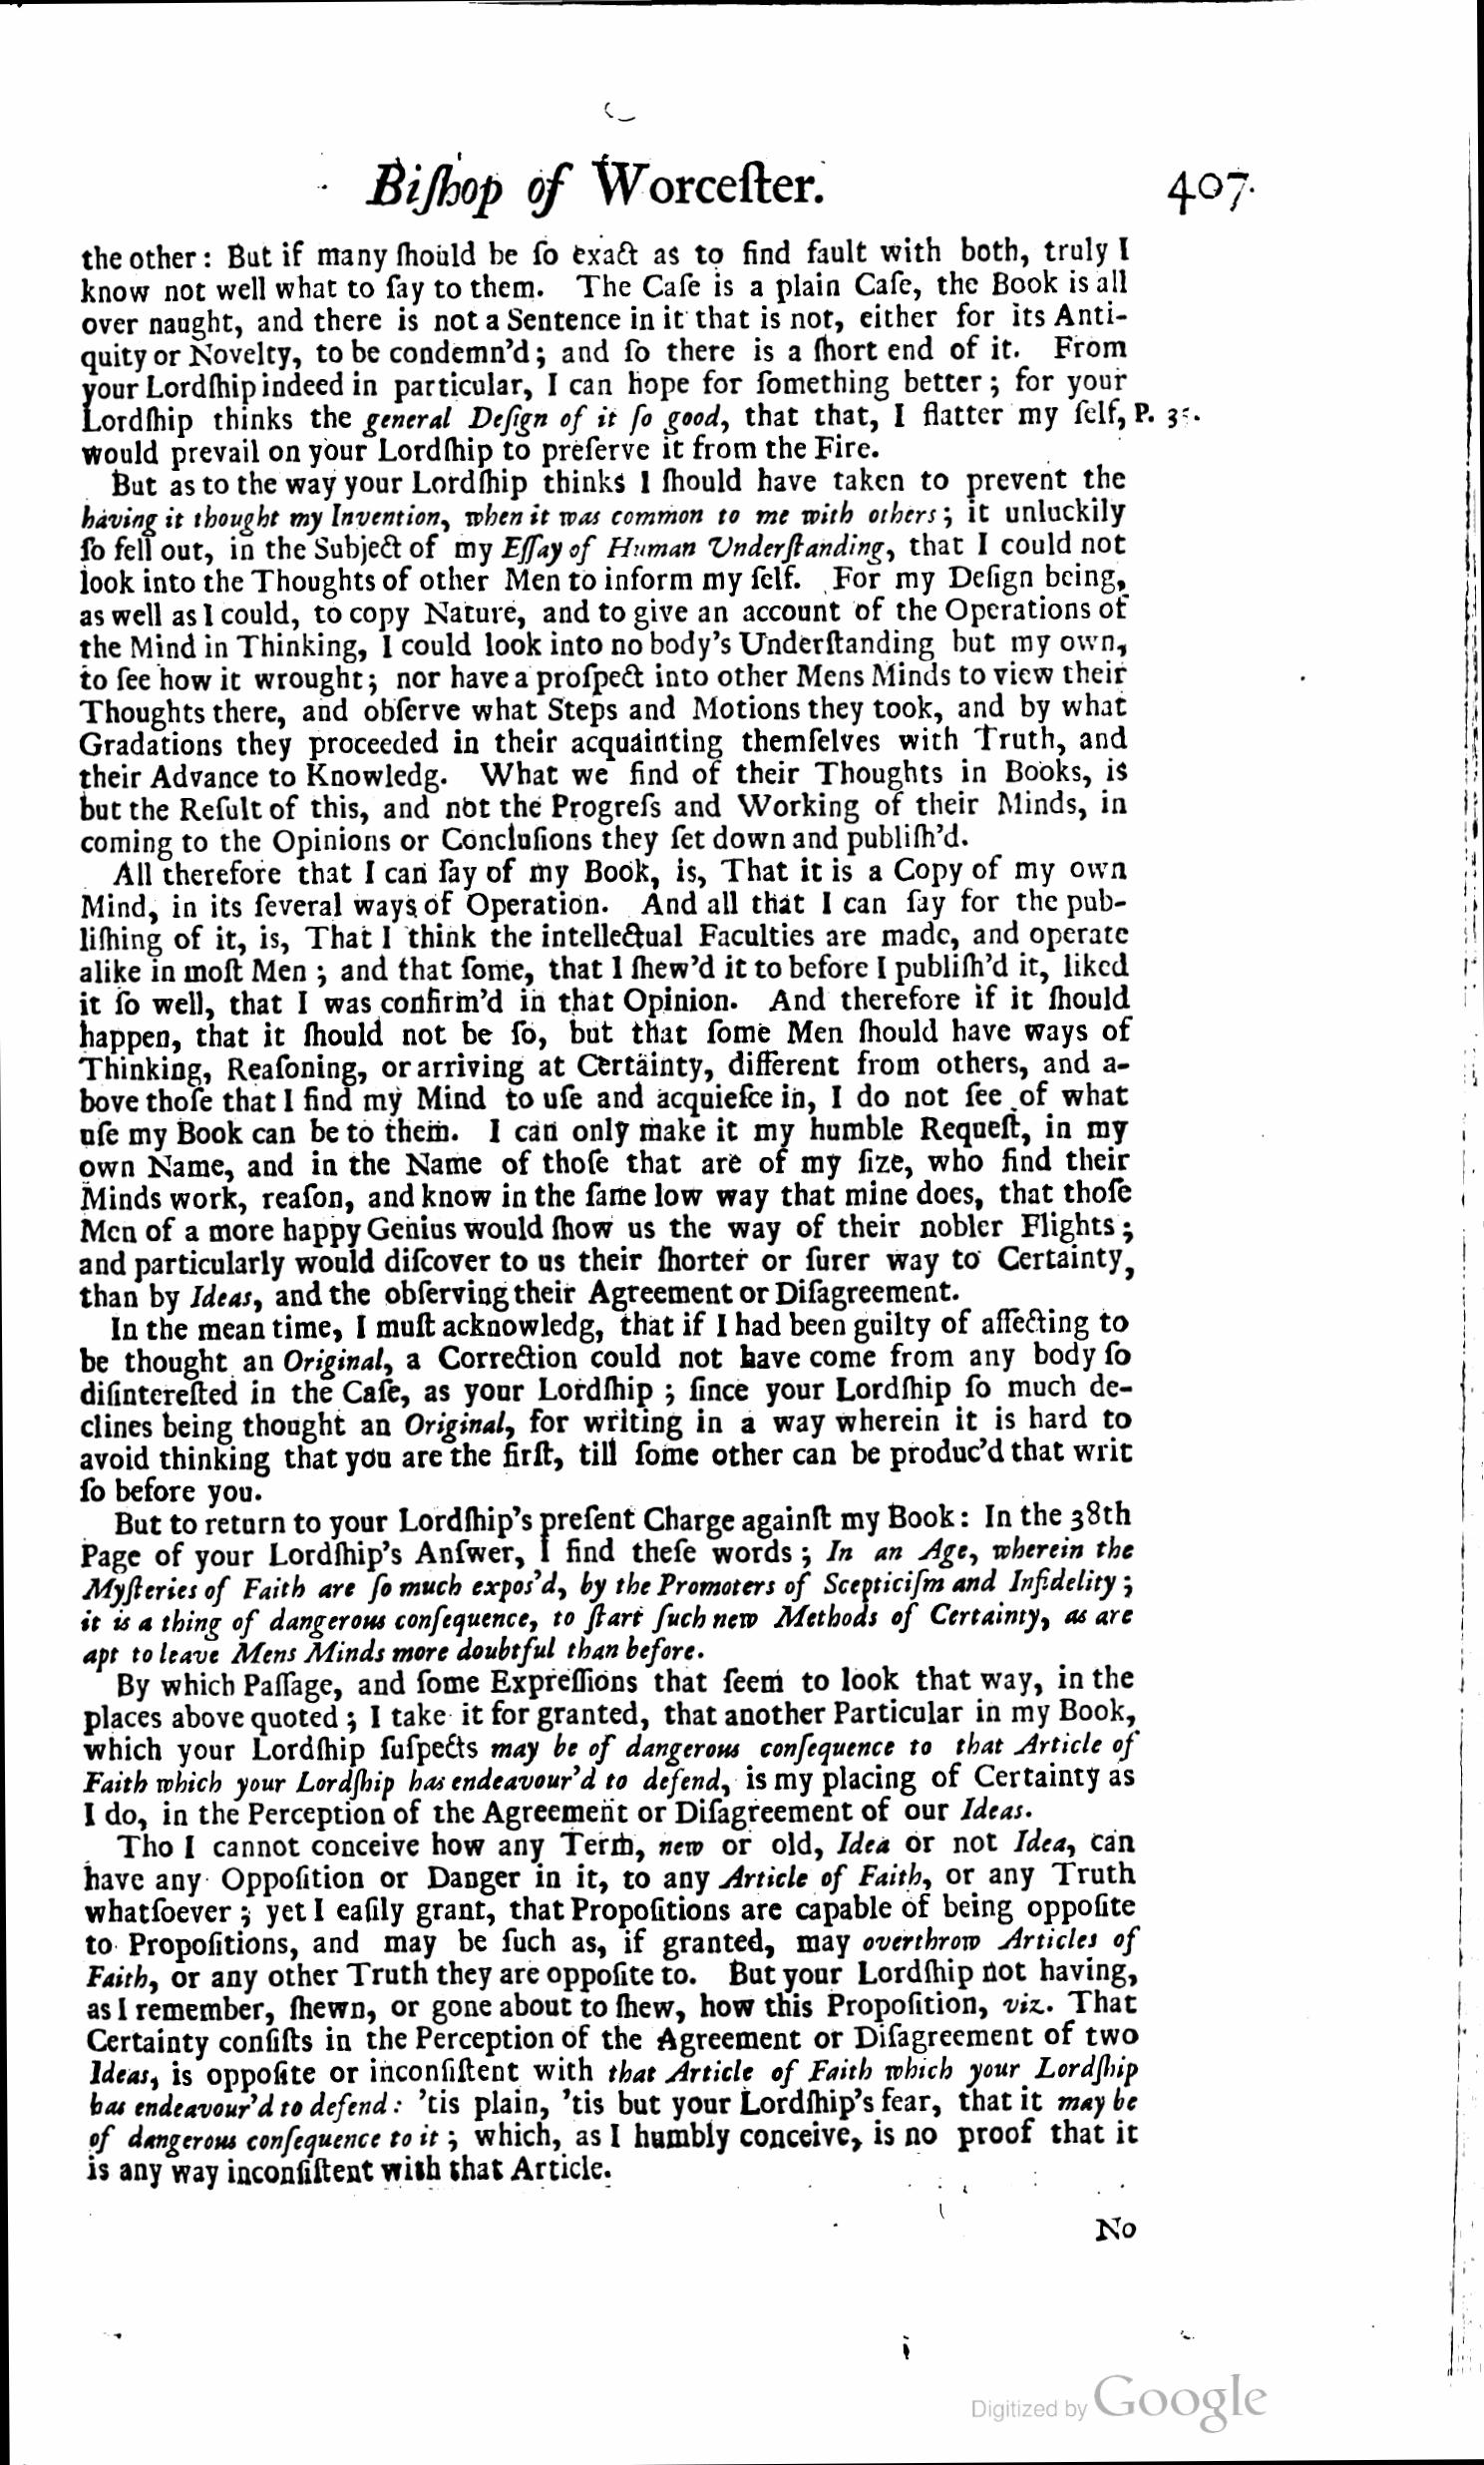bottom_p: (79, 238, 1127, 472)
catchword: (1091, 2210, 1137, 2241)
full_p: (77, 857, 1134, 1310), (77, 472, 1132, 856), (83, 1826, 1142, 2185), (74, 1312, 1132, 1507), (77, 1504, 1134, 1669), (83, 1666, 1139, 1828)
header: (363, 153, 831, 224)
page_num: (1164, 166, 1260, 220)
print_marg: (1134, 396, 1185, 430)
